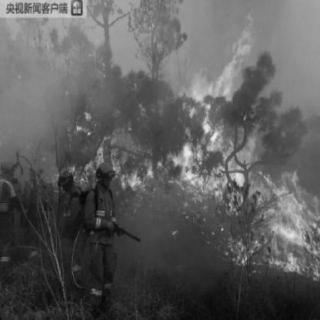Fire: (178, 4, 316, 272), (62, 110, 174, 190)
other: (78, 160, 126, 306)
